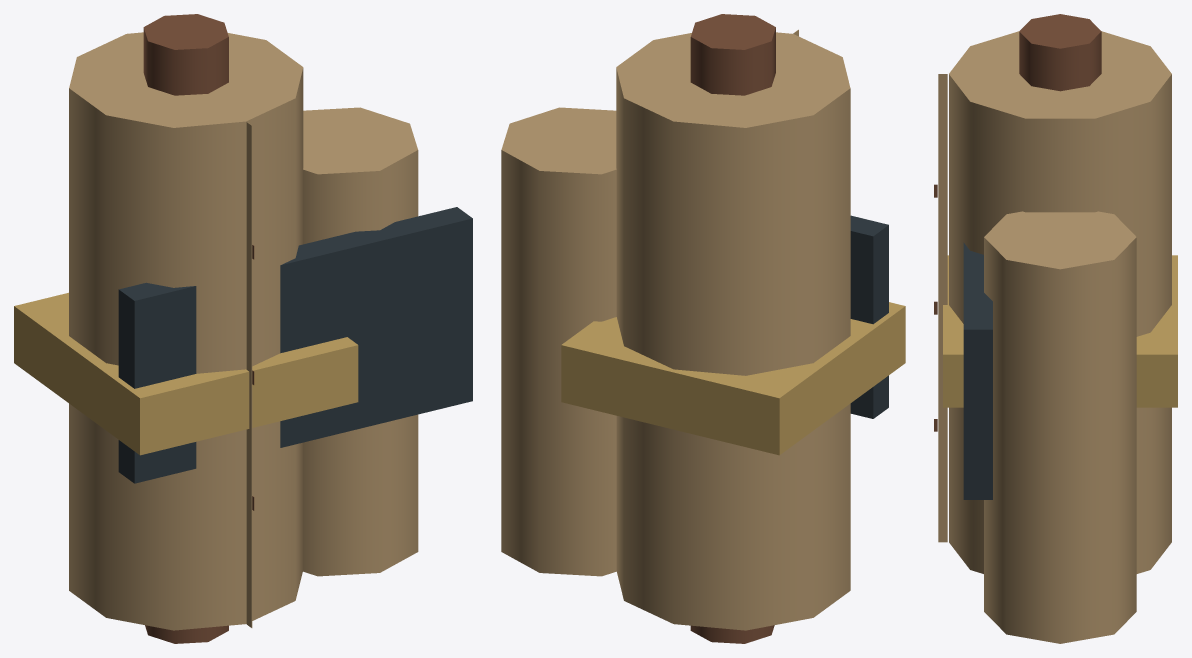
Rendered from scroll-5.glb.
3 renders of one model, left to right at view 1: azimuth 30°, elevation 25°; view 2: azimuth 150°, elevation 25°; view 3: azimuth 270°, elevation 25°, orthographic. The views are drawn at different scales.
Parts seen in each view (by area): view 1: piece_whole, ReadingSheet; view 2: piece_whole; view 3: piece_whole, ReadingSheet.
Boxes of the visible parts, x1,y1,x2,y2 form: piece_whole: [14, 14, 472, 643]; ReadingSheet: [246, 122, 254, 627]; piece_whole: [501, 14, 905, 643]; piece_whole: [943, 14, 1177, 643]; ReadingSheet: [934, 74, 947, 542].
Bounding box in the file's own units: 0.315 × 0.52 × 0.2075.
